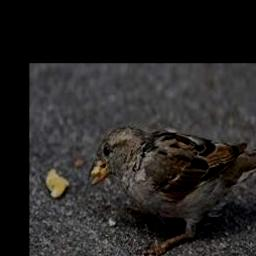Sparrow: (87, 126, 256, 256)
